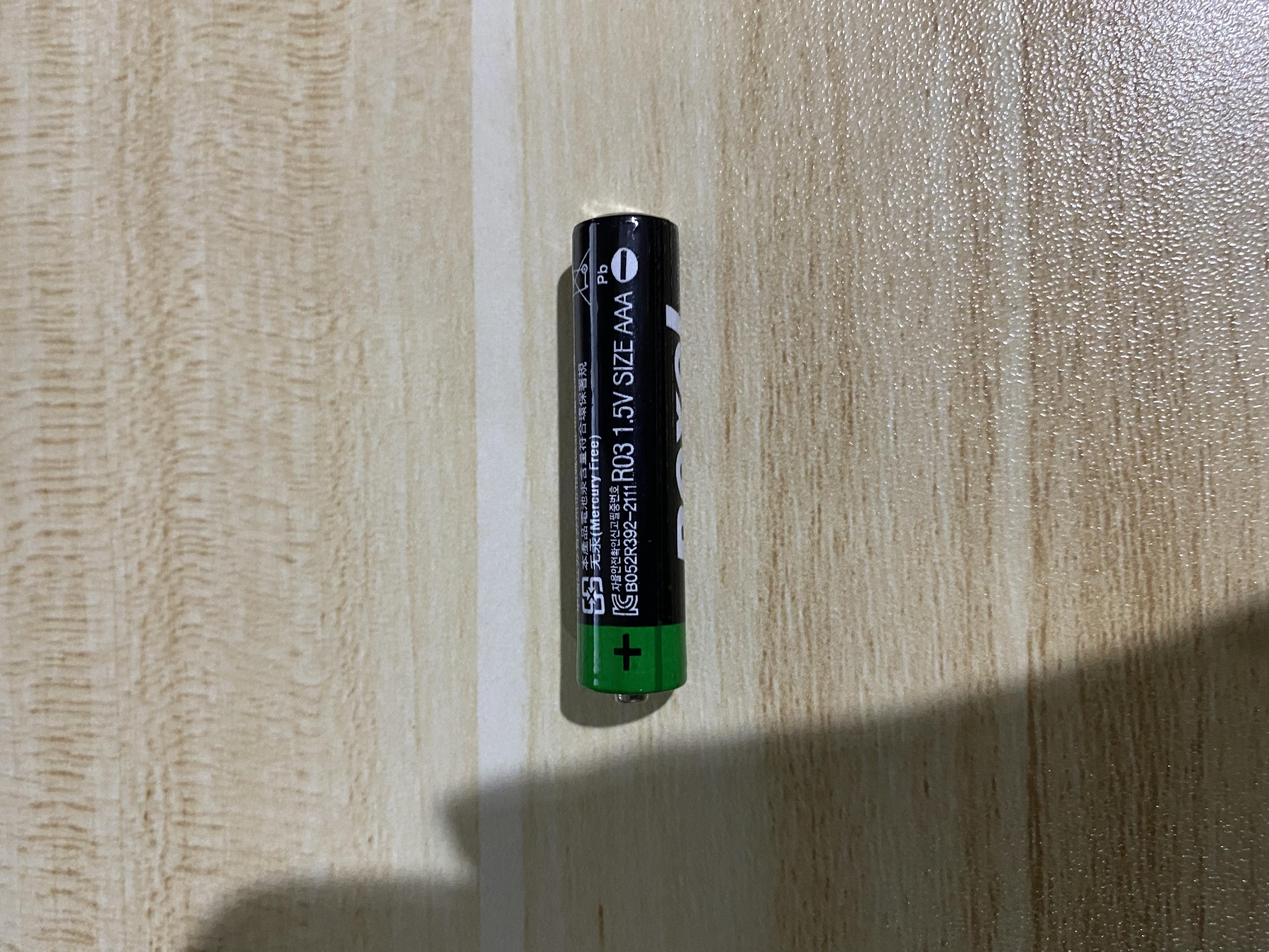AAA: (330, 422, 986, 516)
